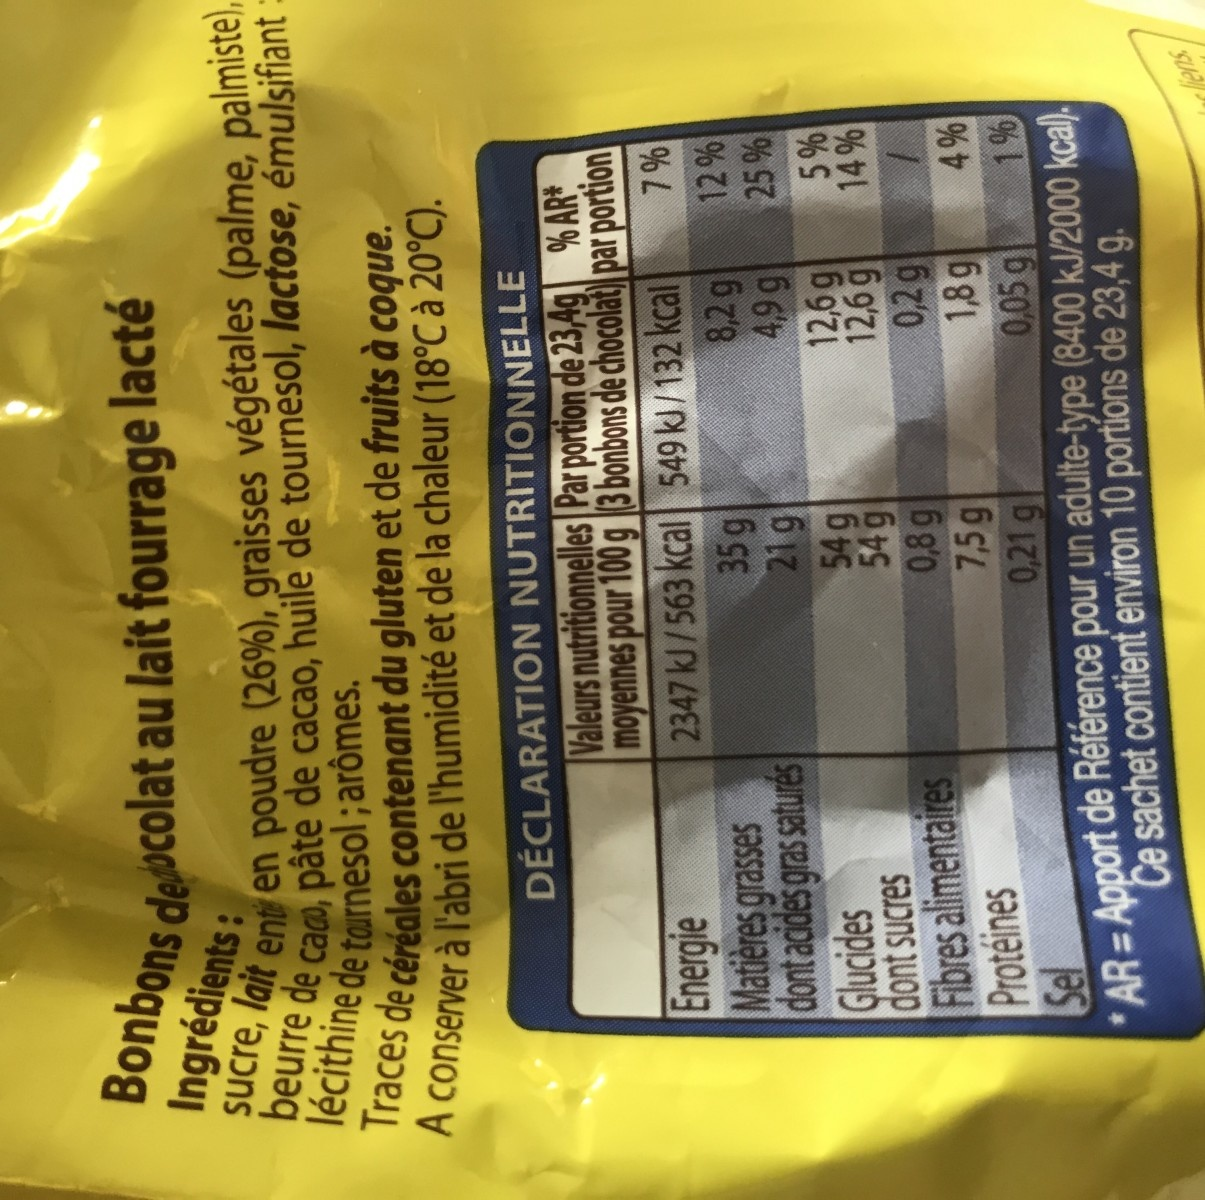ingredients: (169, 1, 372, 1157)
